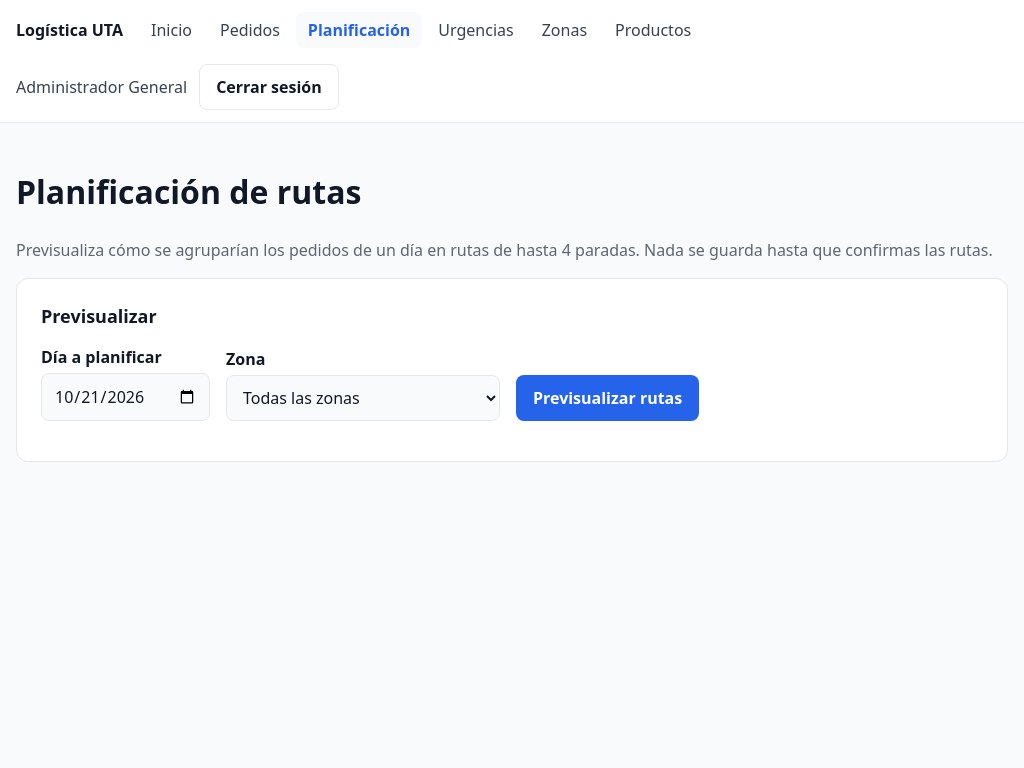
Test: PlanningPage · previsualizar › indica cuando no hay pedidos que planificar
Type "2030-02-14" into the date field labelled "Día a planificar". click: point(126, 397)
box: [41,373,210,421]
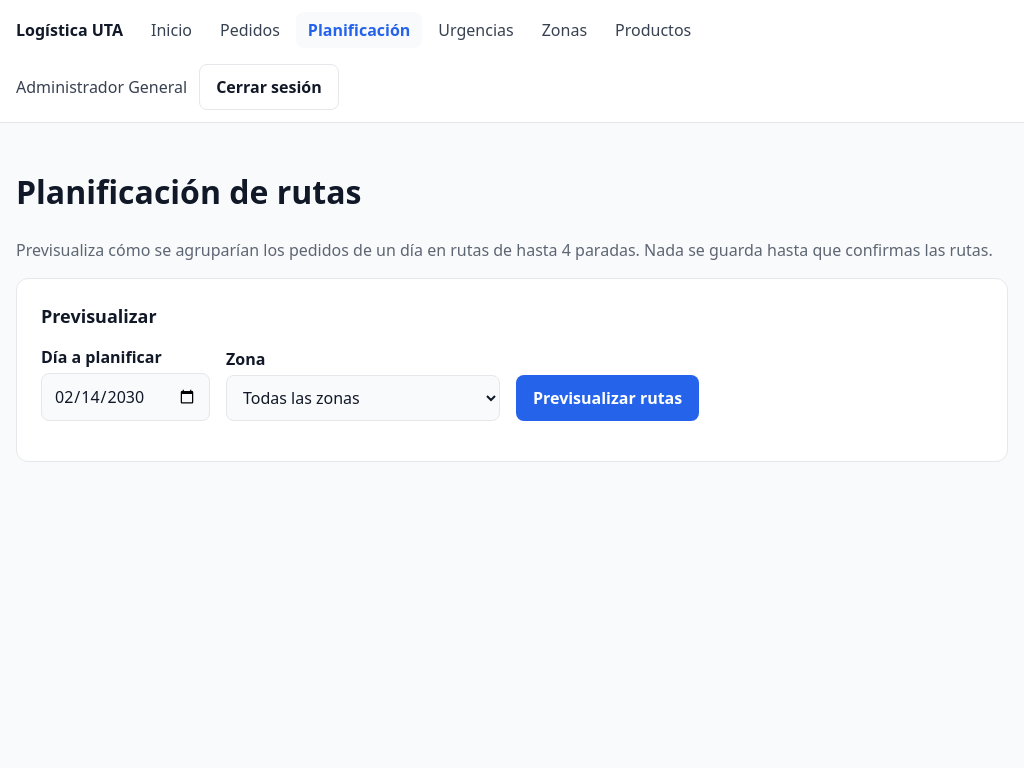
Click the button "Previsualizar rutas". click: point(608, 398)
box: [516,375,699,421]
(page scrolled)
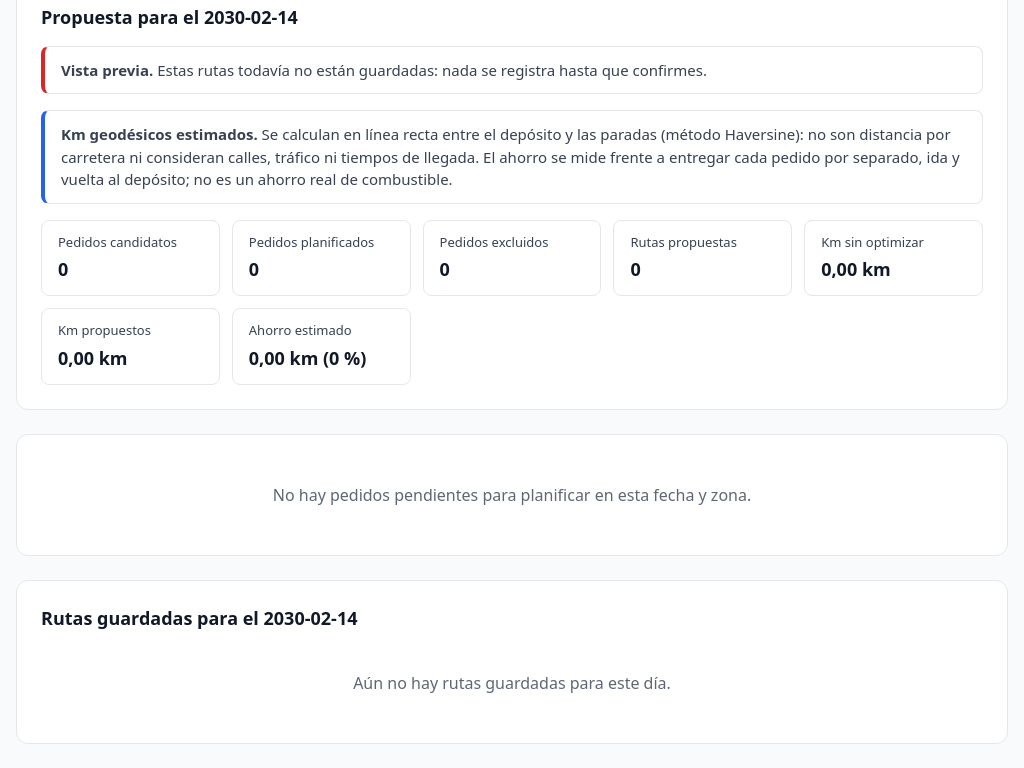
Expected: the text "No hay pedidos pendientes para planificar en esta fecha y zona." is shown, [273,484,751,506]
